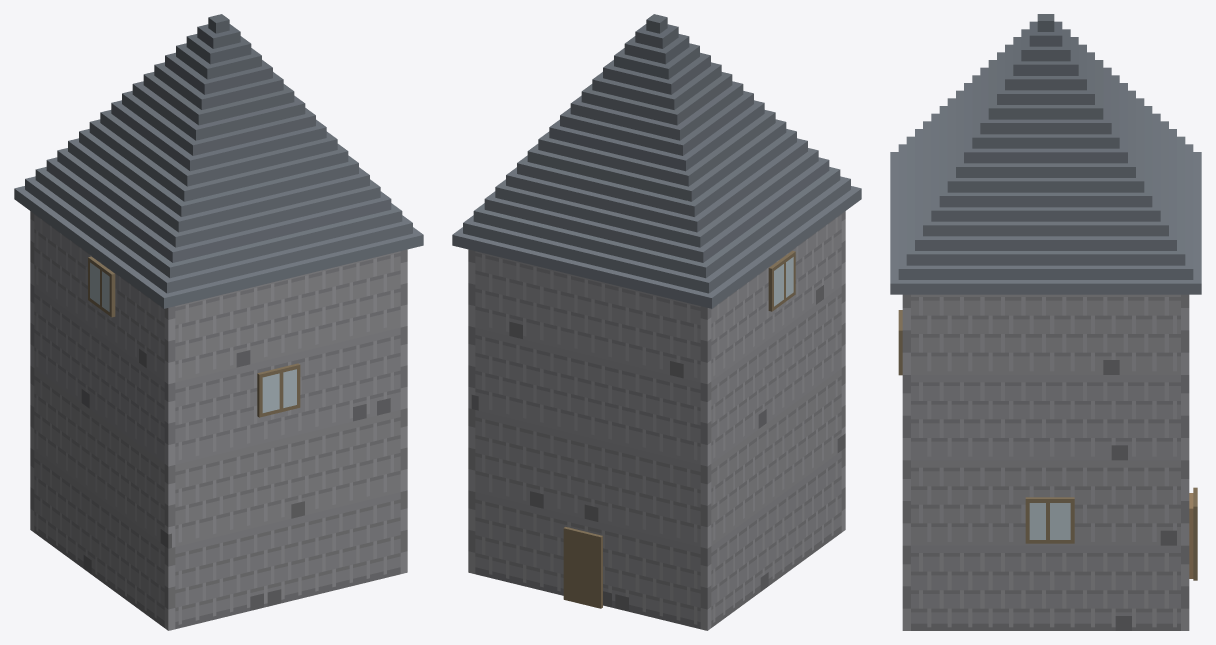
Rendered from torre_mago_01.glb.
3 renders of one model, left to right at view 1: azimuth 30°, elevation 25°; view 2: azimuth 150°, elevation 25°; view 3: azimuth 270°, elevation 25°, orthographic. The views are drawn at different scales.
Visible parts, largest first — view 1: torre_mago_01; view 2: torre_mago_01; view 3: torre_mago_01.
Part boxes in pixels (<box>): torre_mago_01: <box>14,14,423,630</box>; torre_mago_01: <box>452,14,861,630</box>; torre_mago_01: <box>890,14,1201,630</box>.
Size of the model in its own units: 7.6 by 14.9 by 7.6.
